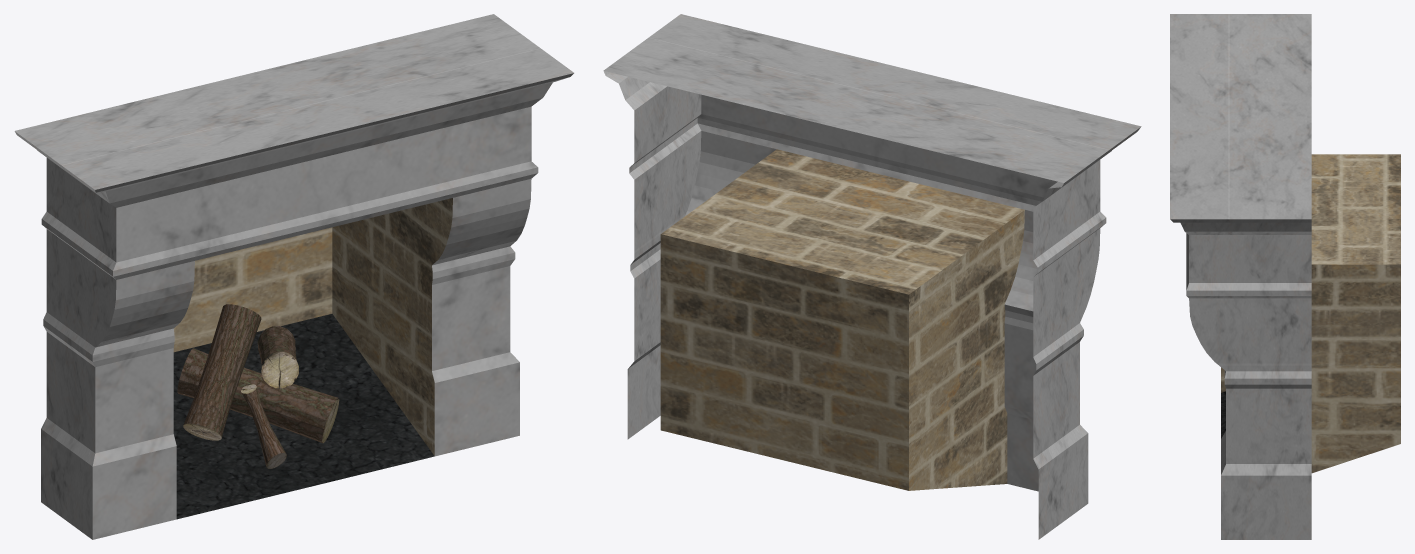
File: Caminetto.fbx
3 renders of one model, left to right at view 1: azimuth 30°, elevation 25°; view 2: azimuth 150°, elevation 25°; view 3: azimuth 270°, elevation 25°, orthographic. The views are drawn at different scales.
Parts seen in each view (by area): view 1: Cube.001; view 2: Cube.001; view 3: Cube.001.
Part boxes in pixels (left/top/right/bottom): Cube.001: left=14, top=14, right=573, bottom=539; Cube.001: left=603, top=14, right=1141, bottom=539; Cube.001: left=1170, top=14, right=1400, bottom=539.
Bounding box in the file's own units: 133 × 100 × 63.13.
